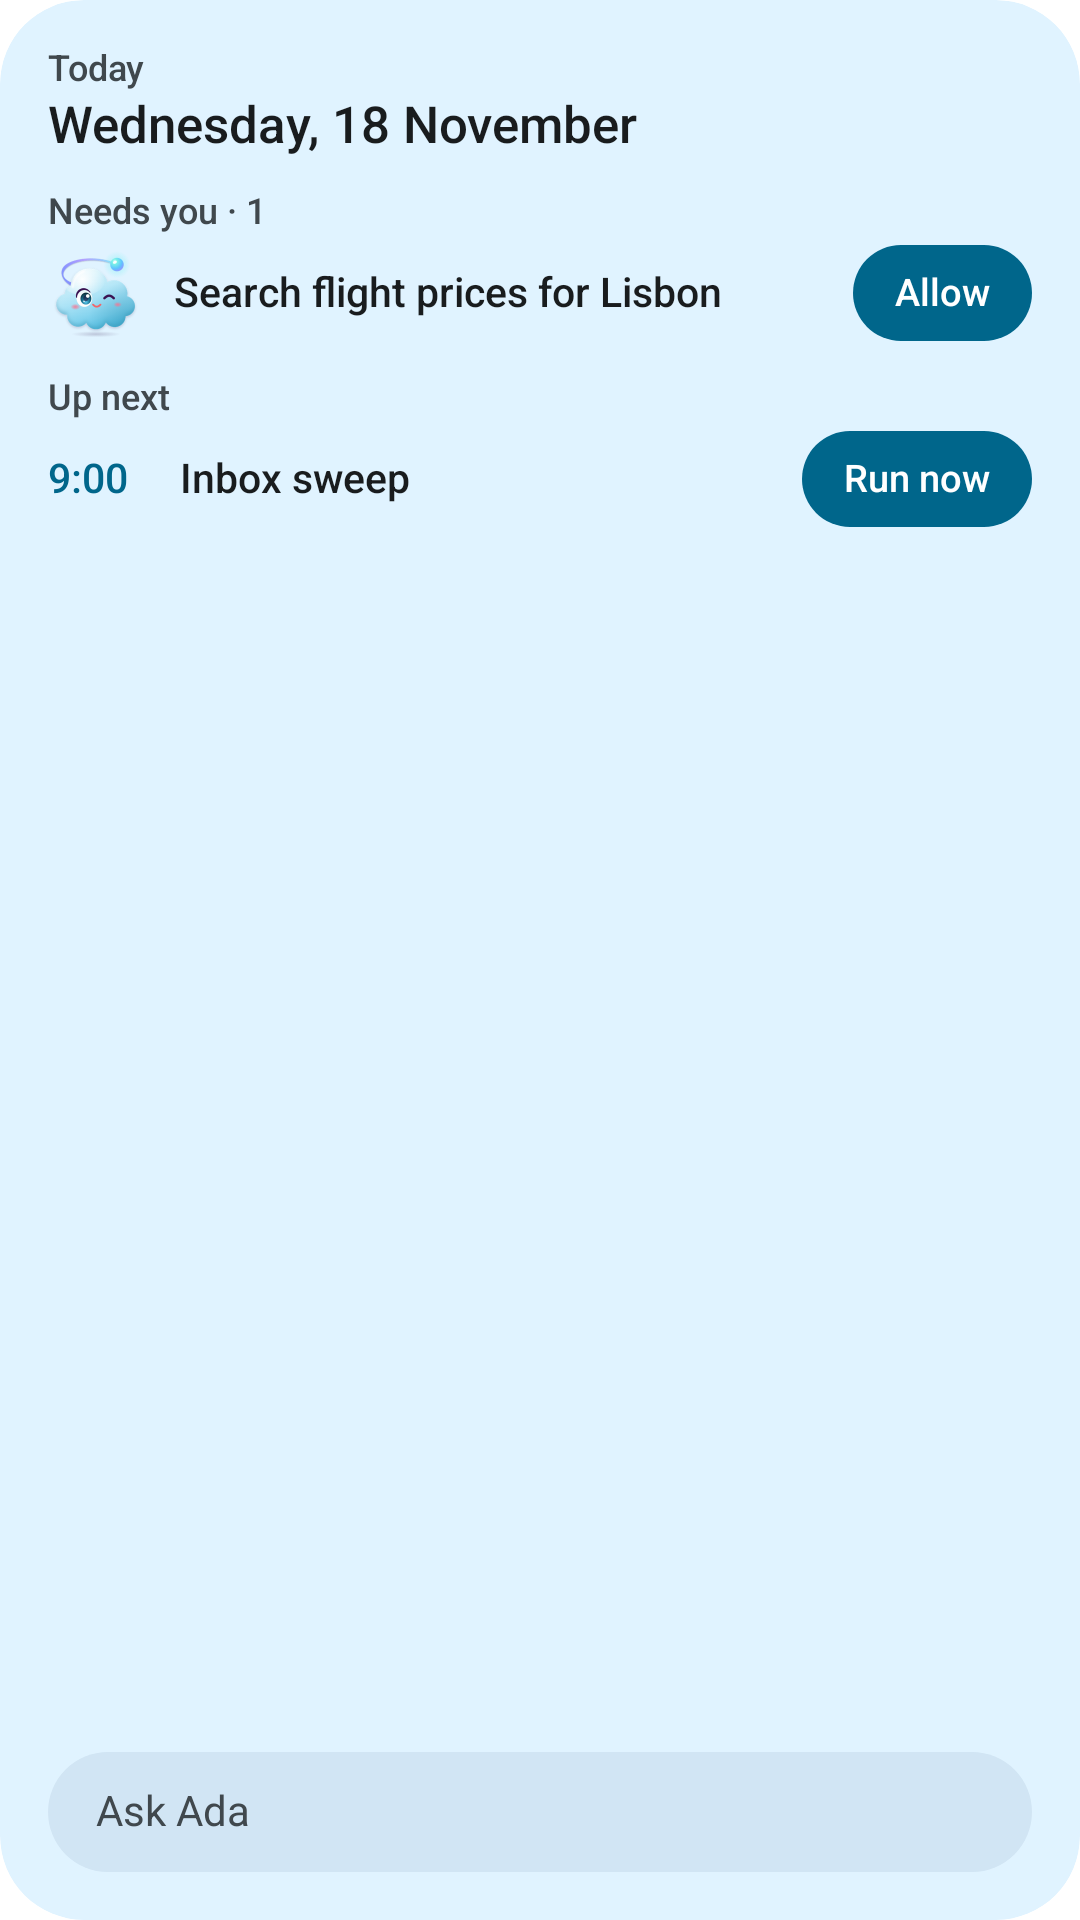

Named icons in this screenshot (1080 × 1920) and their bounding boxes, bbox=(x1, y1, x2, y2):
mascot winky: bbox=(56, 256, 135, 336)
